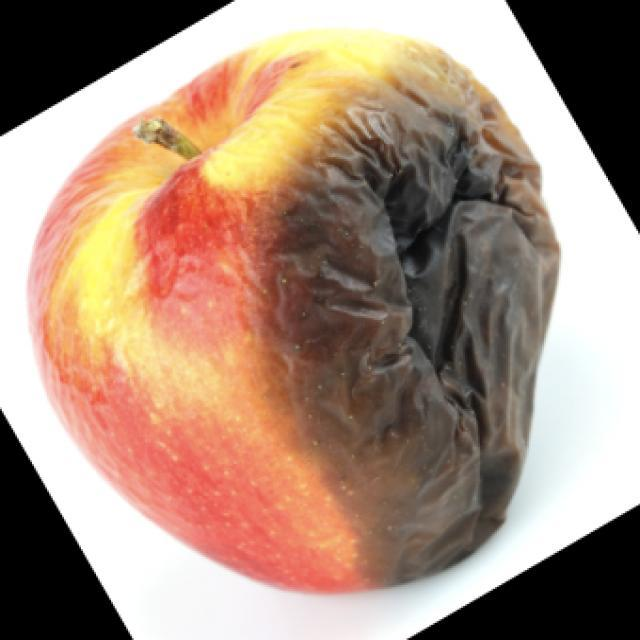Rotten: (40, 40, 540, 595)
